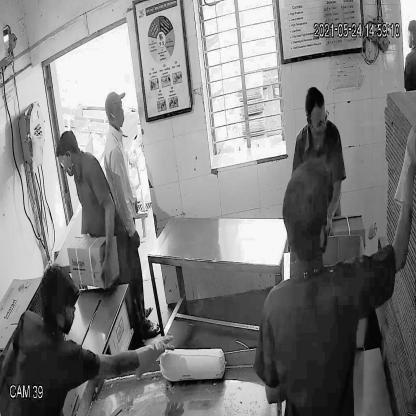goggles: (305, 107, 331, 132)
